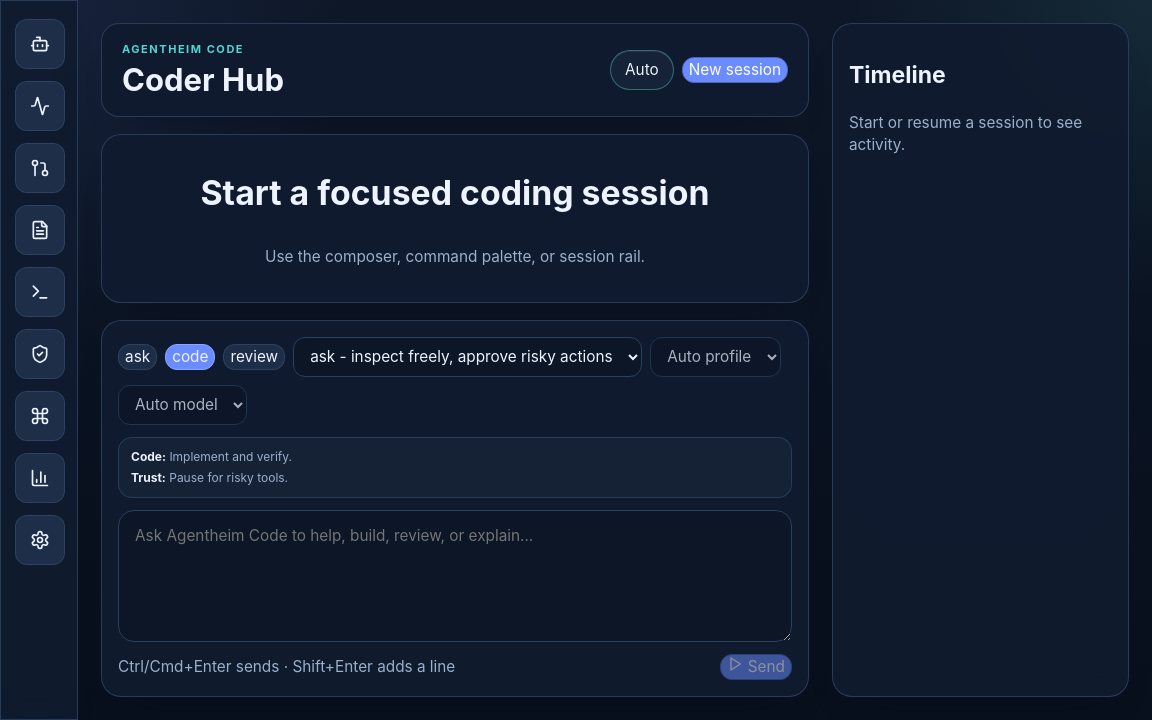
Test case: App API integration › does not auto-switch the inspector when approvals are pending
Click the button titled "Runs" at (40, 168), box [15,143,65,193]
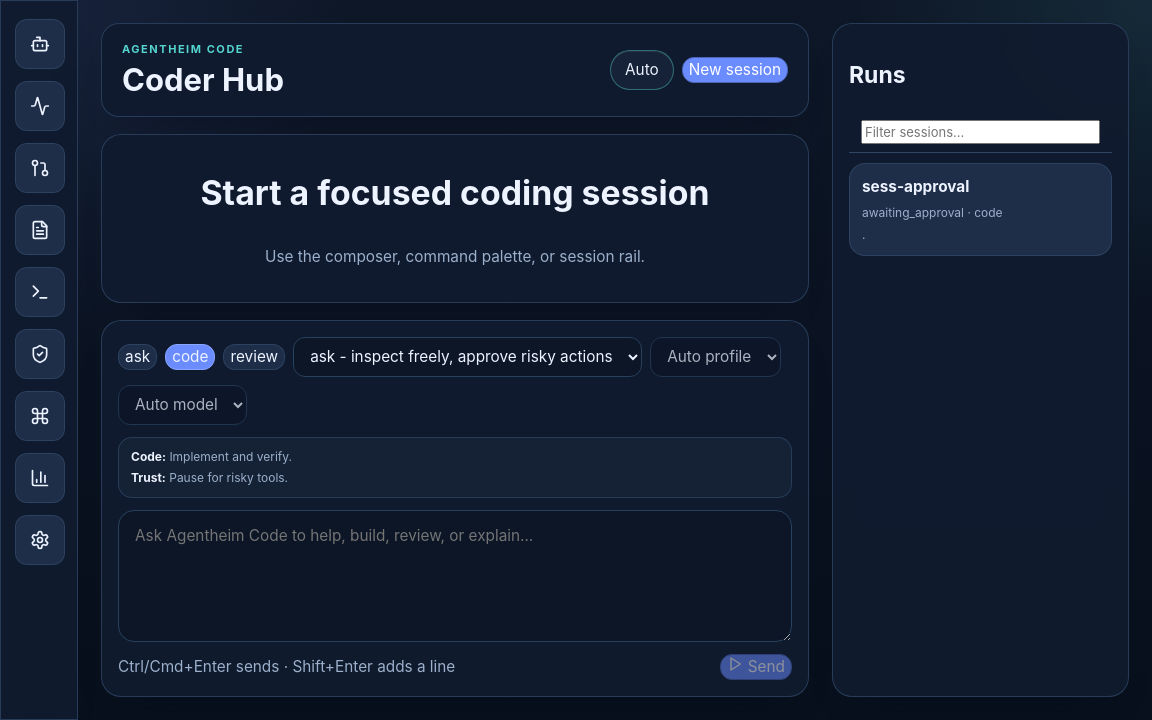
Click the text "sess-approval" at (916, 187), box [862,177,969,196]
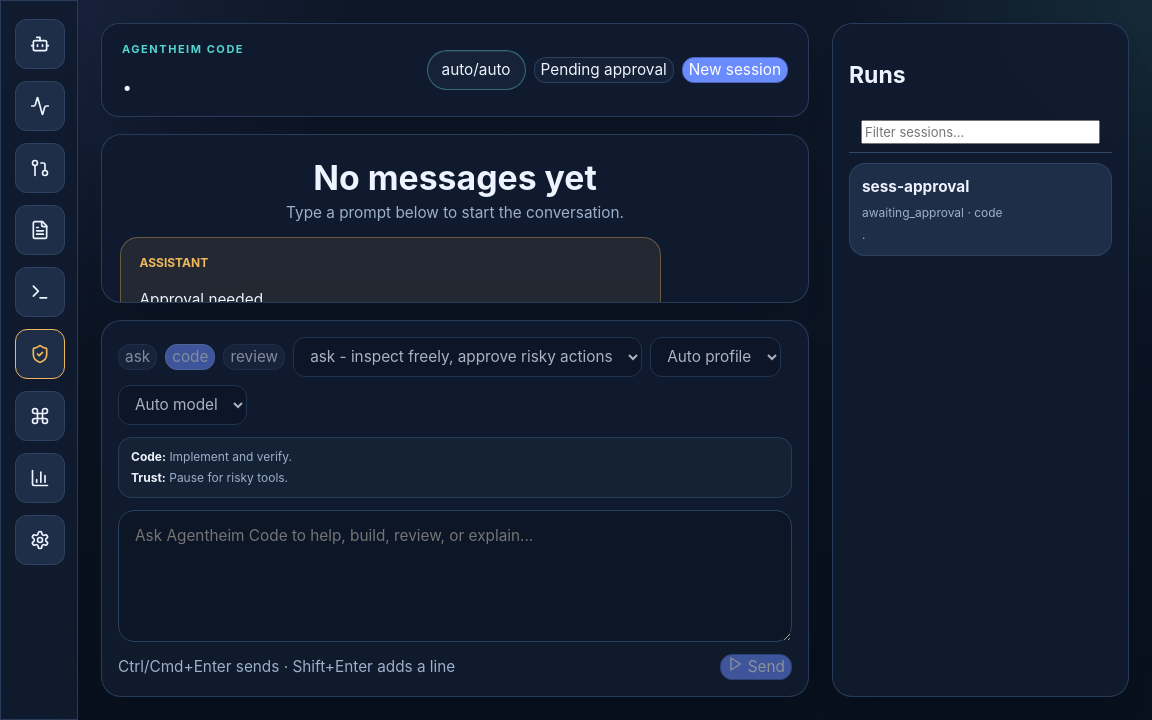
Now the heading "Runs" is shown, box [849,61,906,89]
Now the text "Approval needed." is shown, box [140,290,268,303]
